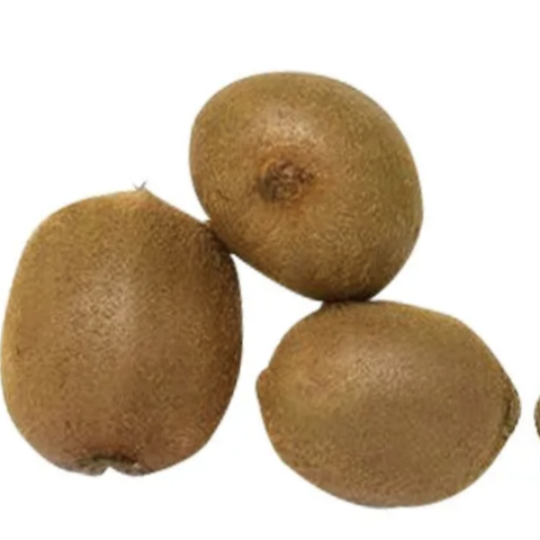kiwi: (0, 153, 270, 517), (156, 42, 463, 333), (229, 289, 529, 540)
